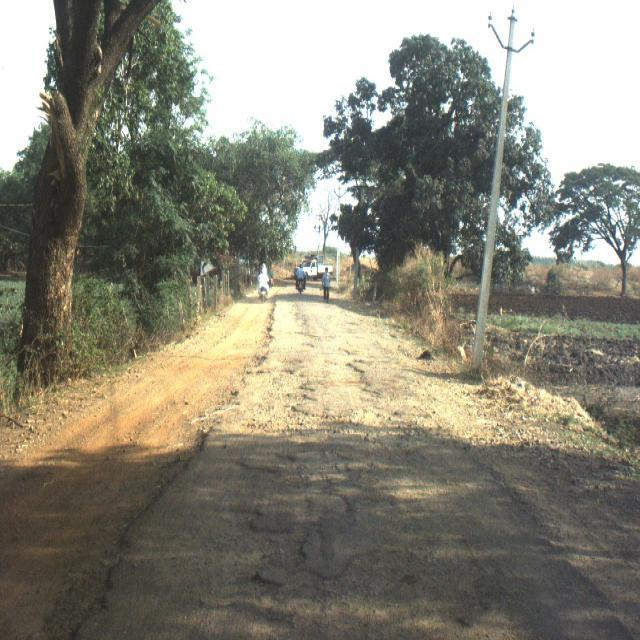Pothole: (215, 462, 371, 640), (279, 319, 407, 431), (399, 525, 509, 640)
